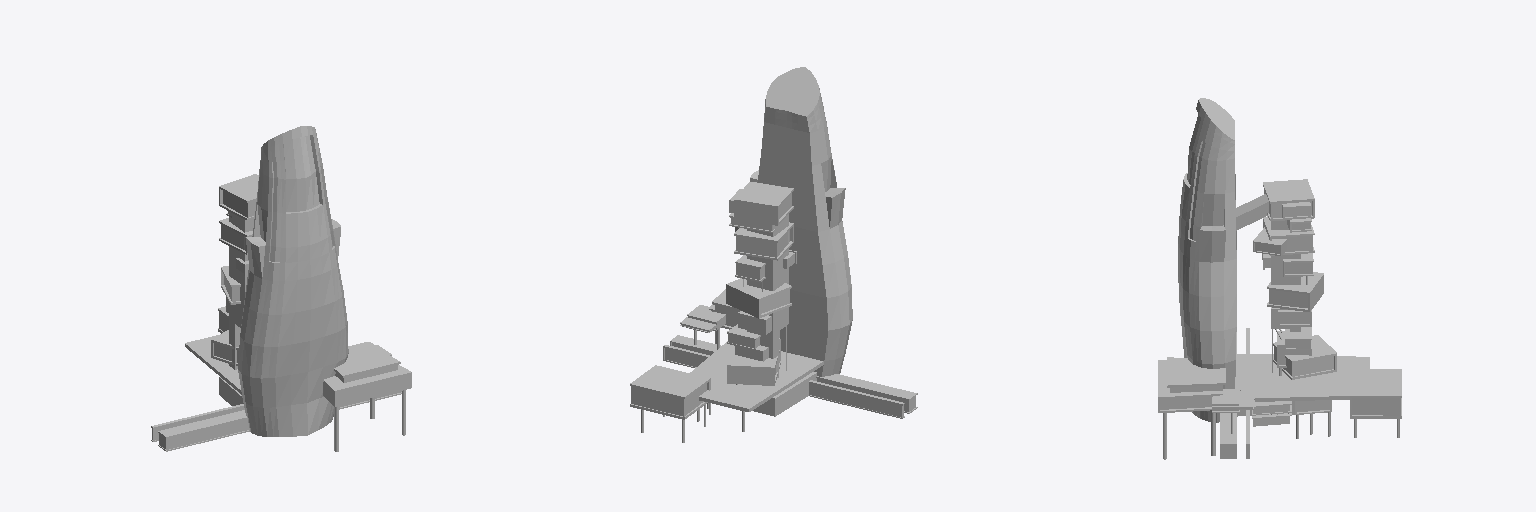
File: boxBuilding.obj
3 views of the same model, side by side, from view 1: azimuth 30°, elevation 25°; view 2: azimuth 150°, elevation 25°; view 3: azimuth 270°, elevation 25° (orthographic).
Visible parts, largest first — view 1: pCylinder1, pCube19, pCube20, pCube1, pCube10, pCube17, pCube21, pCube12, pCube5; view 2: pCylinder1, pCube17, pCube22, pCube21, pCube10, pCube1, pCube20, pCube4, pCube12, pCube5, pCube14, pCube23 (+4 smaller); view 3: pCylinder1, pCube17, pCube19, pCube22, pCube4, pCube5, pCube10, pCube1, pCube12, pCube23, pCube20, pCube13 (+4 smaller).
Boxes of the visible parts, x1,y1,x2,y2 form: pCylinder1: [238, 126, 348, 436]; pCube19: [323, 342, 411, 406]; pCube20: [158, 391, 401, 451]; pCube1: [229, 212, 254, 369]; pCube10: [219, 174, 258, 220]; pCube17: [185, 335, 241, 394]; pCube21: [151, 404, 244, 441]; pCube12: [219, 218, 252, 254]; pCube5: [211, 330, 238, 365]; pCylinder1: [750, 67, 852, 376]; pCube17: [690, 341, 823, 411]; pCube22: [630, 365, 710, 419]; pCube21: [663, 345, 904, 418]; pCube10: [734, 182, 793, 225]; pCube1: [747, 214, 788, 377]; pCube20: [670, 335, 917, 413]; pCube4: [726, 278, 791, 318]; pCube12: [734, 222, 793, 260]; pCube5: [727, 345, 780, 385]; pCube14: [753, 372, 816, 416]; pCube23: [680, 305, 725, 332]; pCylinder1: [1178, 98, 1236, 422]; pCube17: [1235, 353, 1369, 401]; pCube19: [1158, 357, 1225, 412]; pCube22: [1350, 369, 1401, 418]; pCube4: [1267, 272, 1323, 311]; pCube5: [1273, 335, 1336, 379]; pCube10: [1263, 179, 1314, 220]; pCube1: [1271, 220, 1300, 331]; pCube12: [1263, 216, 1314, 255]; pCube23: [1212, 389, 1254, 412]; pCube20: [1220, 332, 1236, 458]; pCube13: [1236, 194, 1268, 230].
Bounding box in the file's own units: 71.19 × 90.04 × 62.71.